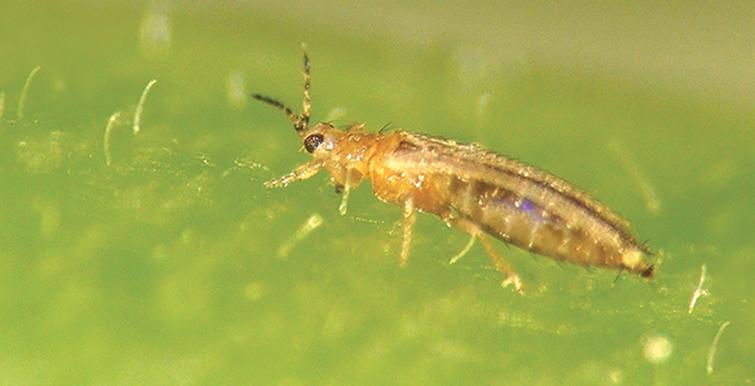Thrips: (255, 47, 669, 305)
